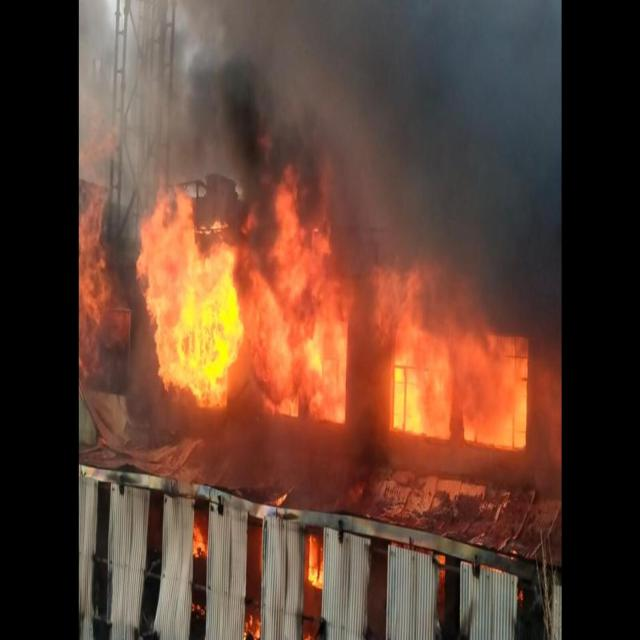fire: (385, 279, 527, 451), (151, 209, 243, 423), (253, 221, 348, 426), (78, 125, 116, 374)
